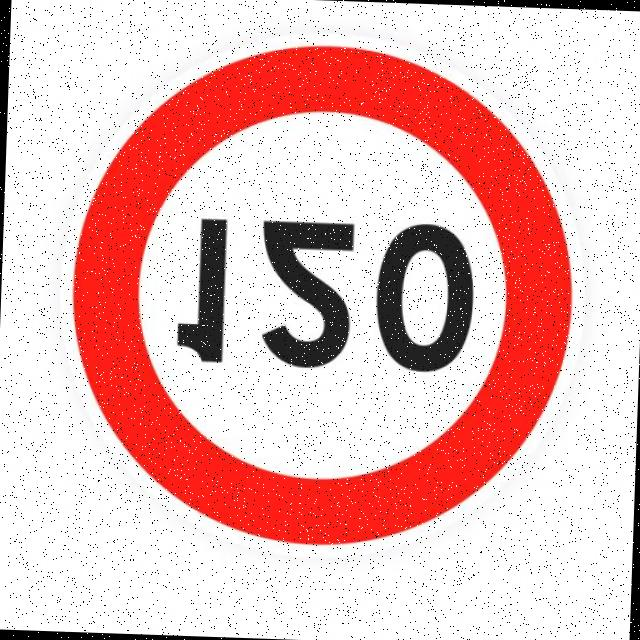speed_limit_120: (43, 32, 598, 578)
